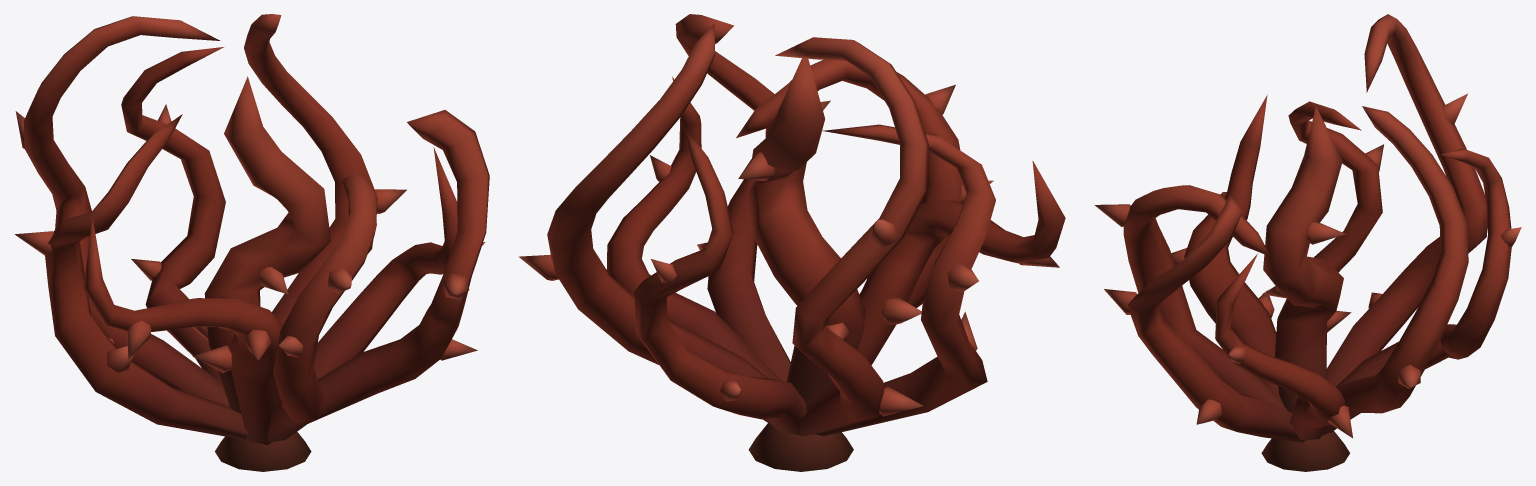
The model's file is Prop_Bramble_Brown.fbx.
3 renders of one model, left to right at view 1: azimuth 30°, elevation 25°; view 2: azimuth 150°, elevation 25°; view 3: azimuth 270°, elevation 25°, orthographic. The views are drawn at different scales.
Visible parts, largest first — view 1: Prop_Bramble_Brown; view 2: Prop_Bramble_Brown; view 3: Prop_Bramble_Brown.
Boxes of the visible parts, x1=… form: Prop_Bramble_Brown: x1=15, y1=14, x2=489, y2=471; Prop_Bramble_Brown: x1=519, y1=14, x2=1065, y2=471; Prop_Bramble_Brown: x1=1094, y1=14, x2=1521, y2=471.
Size of the model in its own units: 126 by 125 by 124.
Materials: 1 (1 with a texture image).
